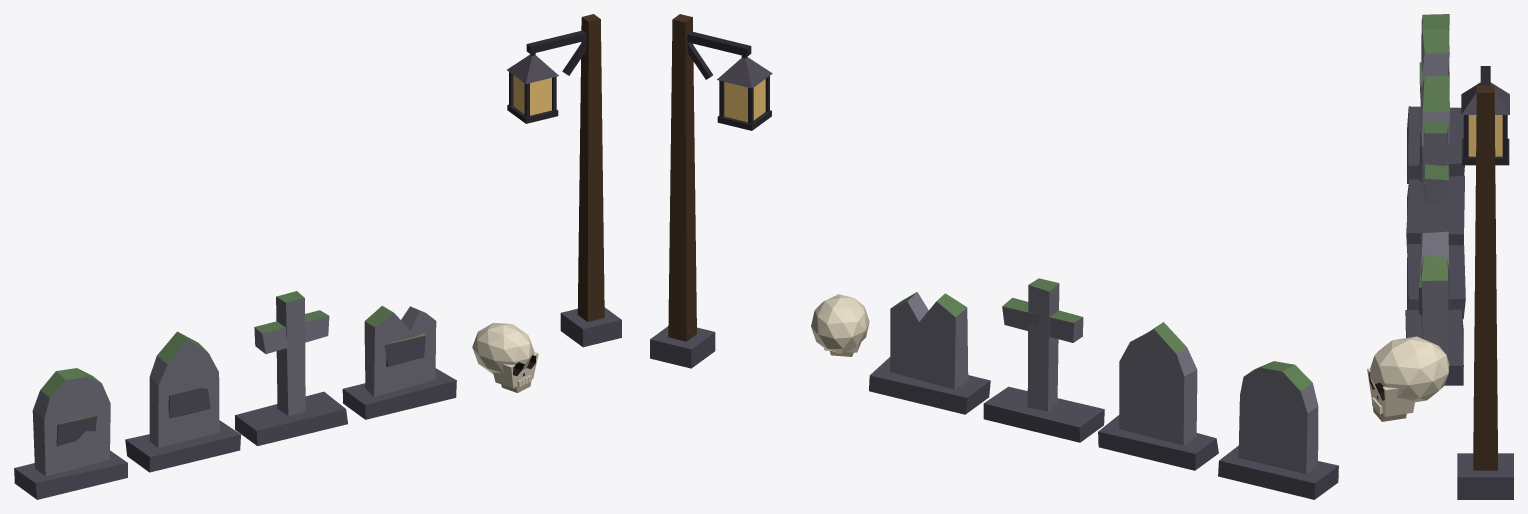
File: sample_props.fbx
3 views of the same model, side by side, from view 1: azimuth 30°, elevation 25°; view 2: azimuth 150°, elevation 25°; view 3: azimuth 270°, elevation 25° (orthographic). The views are drawn at different scales.
Visible parts, largest first — view 1: Lantern, Grave_Round, Grave_Gothic, Grave_Broken, Grave_Cross, Skull; view 2: Lantern, Grave_Gothic, Grave_Round, Grave_Broken, Grave_Cross, Skull; view 3: Lantern, Skull, Grave_Cross, Grave_Broken, Grave_Round, Grave_Gothic.
Part boxes in pixels (bbox=[...]): Lantern: bbox=[507, 14, 621, 347]; Grave_Round: bbox=[14, 368, 127, 499]; Grave_Gothic: bbox=[125, 331, 240, 472]; Grave_Broken: bbox=[342, 305, 456, 419]; Grave_Cross: bbox=[235, 291, 347, 446]; Skull: bbox=[472, 322, 538, 392]; Lantern: bbox=[650, 14, 772, 368]; Grave_Gothic: bbox=[1098, 322, 1218, 470]; Grave_Round: bbox=[1218, 361, 1338, 499]; Grave_Broken: bbox=[869, 292, 990, 414]; Grave_Cross: bbox=[983, 278, 1104, 442]; Skull: bbox=[811, 294, 869, 356]; Lantern: bbox=[1457, 66, 1513, 499]; Skull: bbox=[1367, 336, 1449, 421]; Grave_Cross: bbox=[1407, 121, 1465, 319]; Grave_Broken: bbox=[1405, 231, 1463, 385]; Grave_Round: bbox=[1407, 14, 1464, 183]; Grave_Gothic: bbox=[1406, 75, 1464, 252].
Bounding box in the file's own units: 14.03 × 7 × 2.34.
